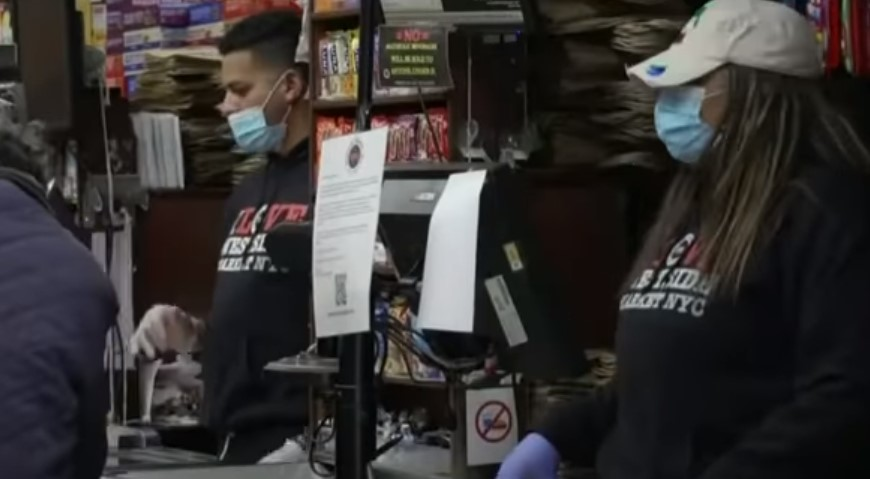face_with_mask: (637, 0, 826, 176), (204, 11, 319, 157)
